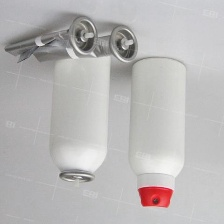aerosol_cans: (122, 55, 192, 211), (44, 47, 116, 190)
